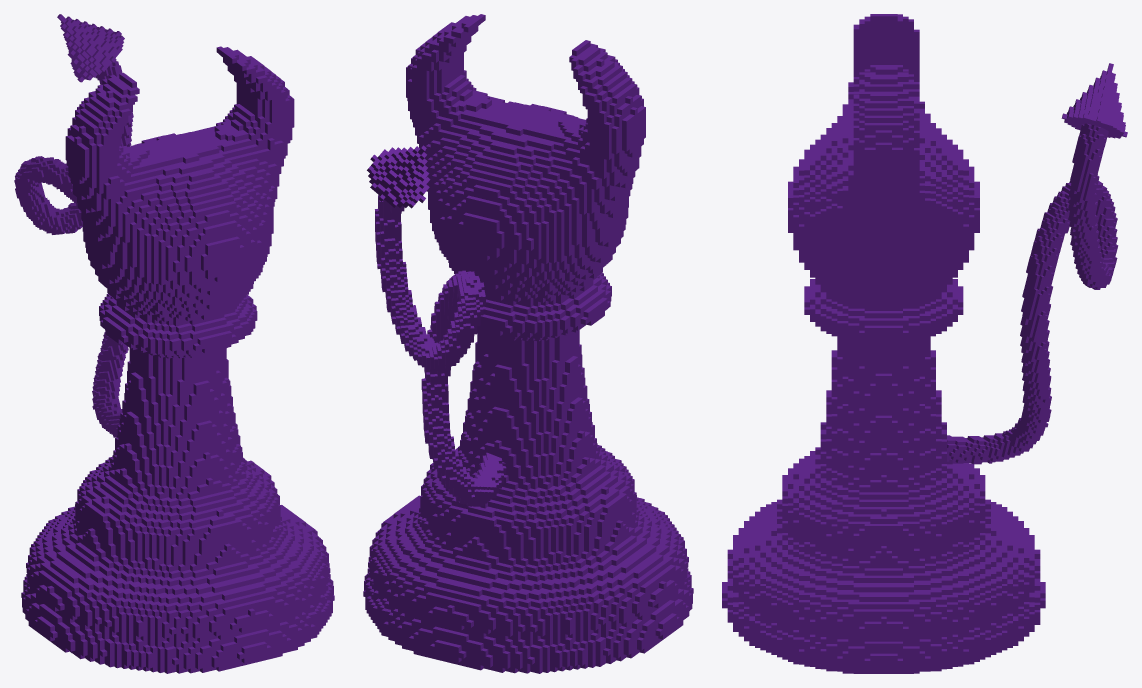
File: demon.fbx
3 views of the same model, side by side, from view 1: azimuth 30°, elevation 25°; view 2: azimuth 150°, elevation 25°; view 3: azimuth 270°, elevation 25° (orthographic). The views are drawn at different scales.
Parts seen in each view (by area): view 1: Pawn, Tail, Cone; view 2: Pawn, Tail, Cone; view 3: Pawn, Tail, Cone.
Part boxes in pixels (x1,y1,x2,y2): Pawn: (21,46,334,673); Tail: (14,60,133,437); Cone: (57,14,124,82); Pawn: (363,14,693,673); Tail: (375,195,506,506); Cone: (367,145,430,208); Pawn: (722,14,1045,673); Tail: (947,123,1118,464); Cone: (1061,63,1127,138).
Size of the model in its own units: 128 by 249 by 160.
